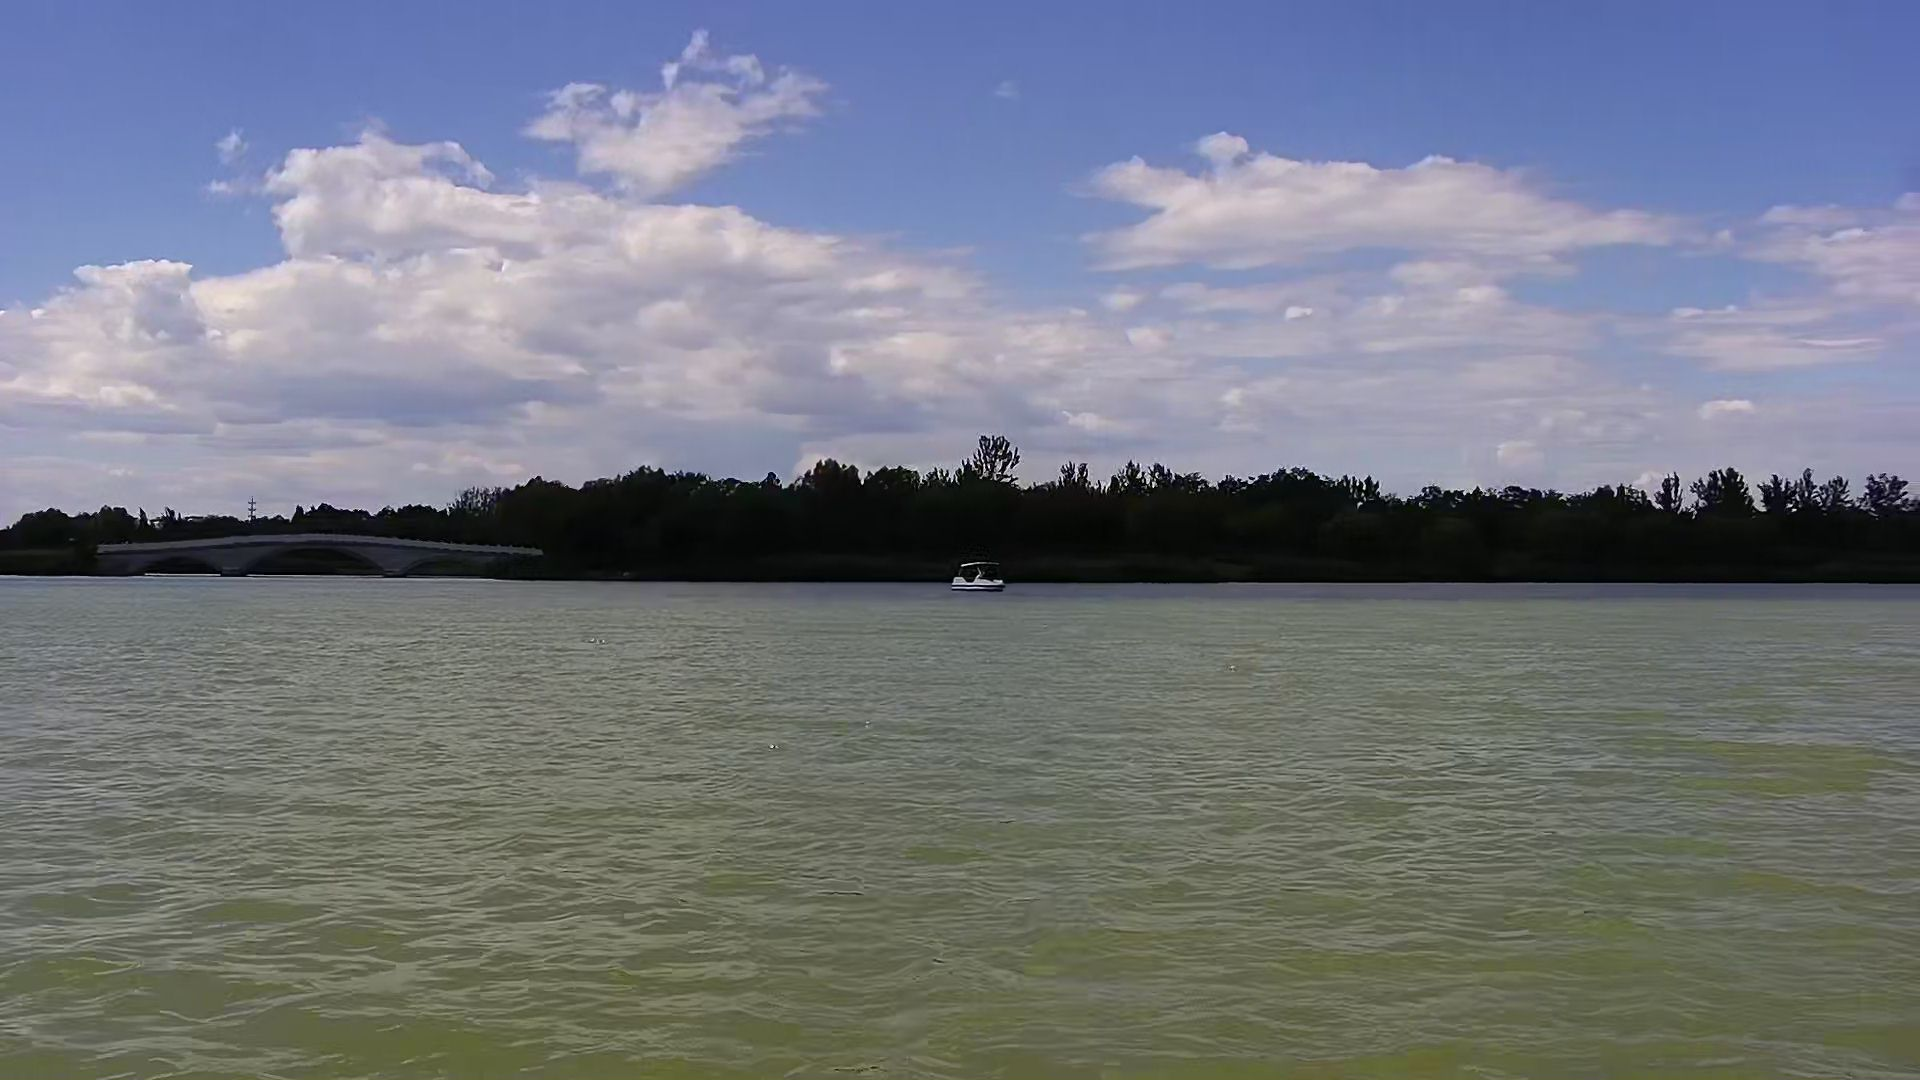boat: (945, 555, 1009, 597)
bridge: (84, 534, 554, 585)
